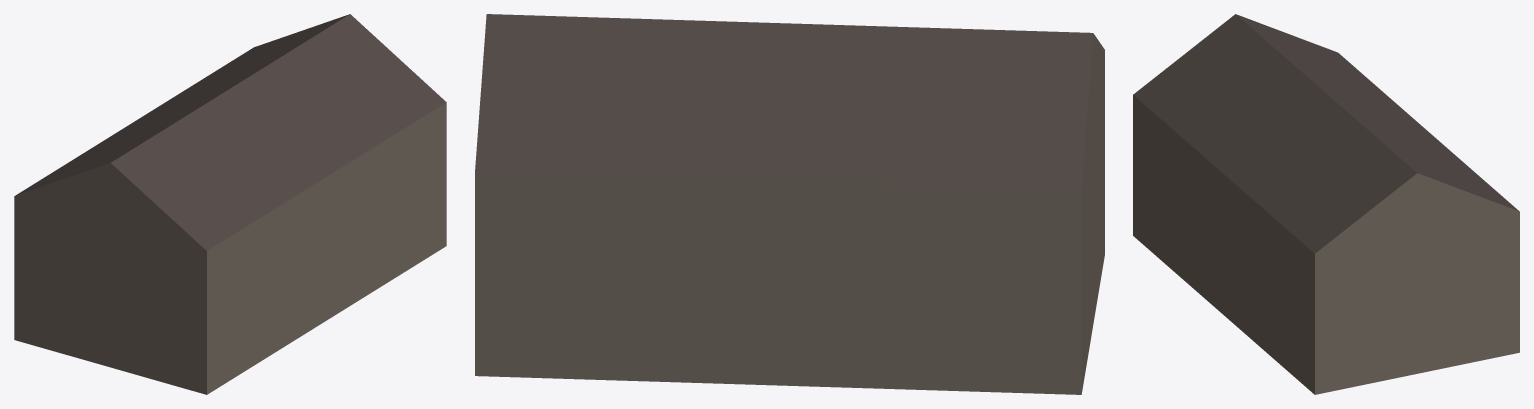
The picture shows the model from 3 angles, left to right: view 1: azimuth 30°, elevation 25°; view 2: azimuth 150°, elevation 25°; view 3: azimuth 270°, elevation 25°; orthographic projection. The views are drawn at different scales.
Parts seen in each view (by area): view 1: HP-w369342585; view 2: HP-w369342585; view 3: HP-w369342585.
Boxes of the visible parts, box(x1,y1,x2,y2) form: HP-w369342585: box(14, 14, 446, 394); HP-w369342585: box(475, 14, 1104, 394); HP-w369342585: box(1133, 14, 1519, 394).
Bounding box in the file's own units: 27.55 × 12.81 × 22.36.
